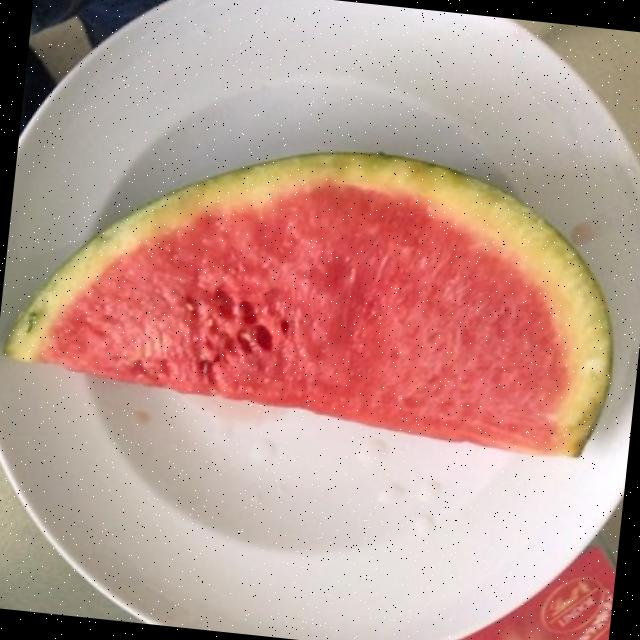watermelon-fresh: (15, 148, 603, 451)
